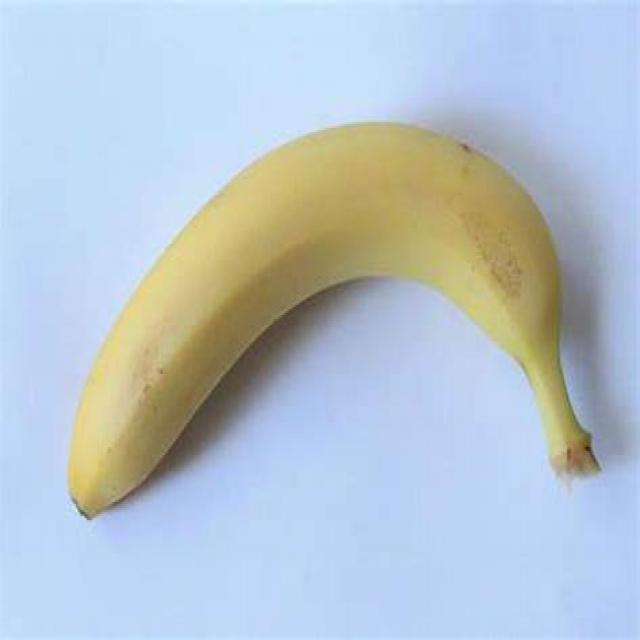Banana: (63, 117, 604, 539)
